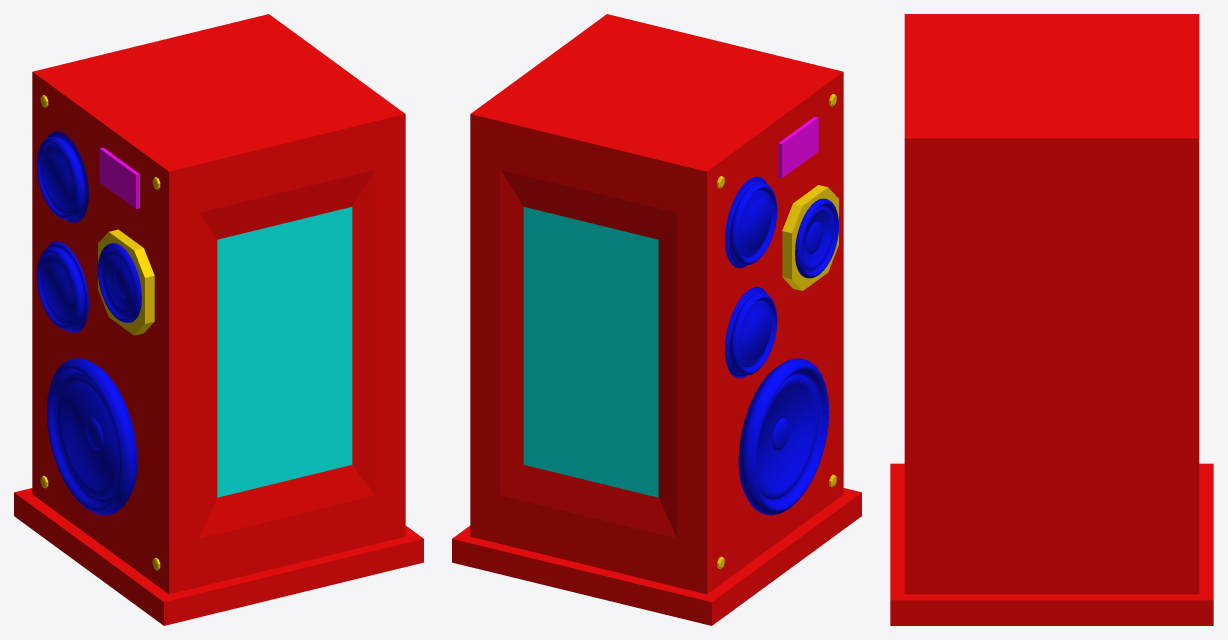
The model's file is Glosnik_ID.fbx.
The picture shows the model from 3 angles, left to right: view 1: azimuth 30°, elevation 25°; view 2: azimuth 150°, elevation 25°; view 3: azimuth 270°, elevation 25°; orthographic projection. The views are drawn at different scales.
Parts seen in each view (by area): view 1: Głosnik; view 2: Głosnik; view 3: Głosnik.
Boxes of the visible parts, x1,y1,x2,y2 form: Głosnik: (14, 14, 423, 625); Głosnik: (452, 14, 861, 625); Głosnik: (890, 14, 1213, 625).
Bounding box in the file's own units: 117 × 188 × 114.
